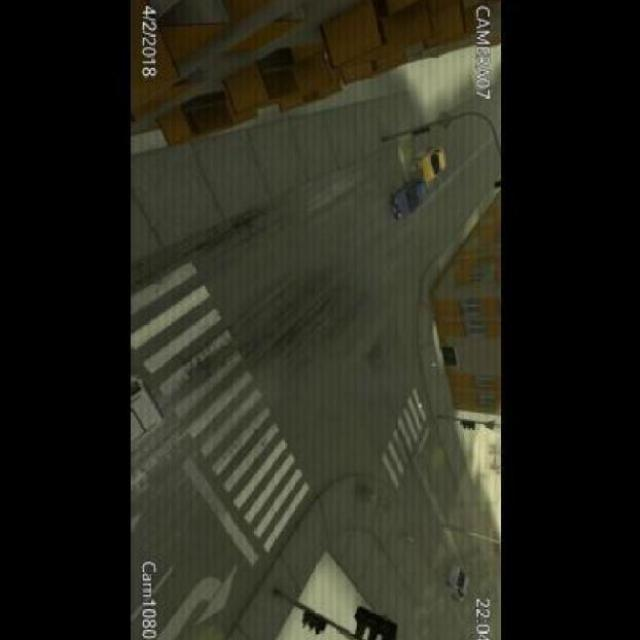accident: (382, 138, 447, 226)
